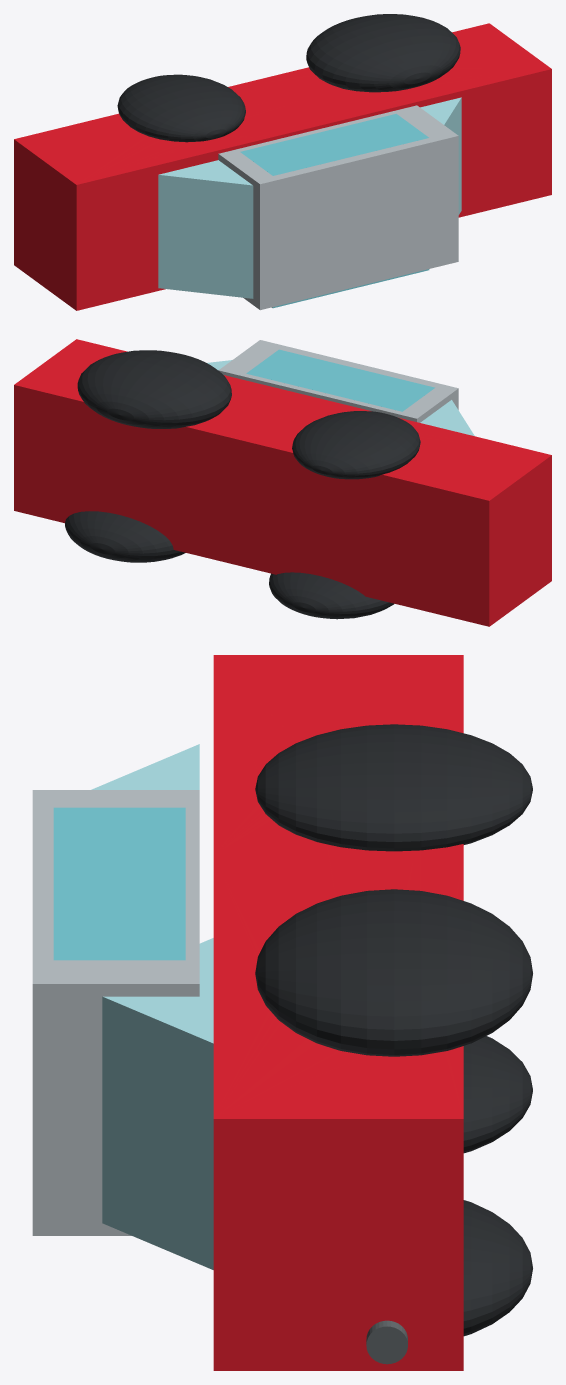
Rendered from tinker.obj.
The picture shows the model from 3 angles, top to bottom: view 1: azimuth 30°, elevation 25°; view 2: azimuth 150°, elevation 25°; view 3: azimuth 270°, elevation 25°; orthographic projection. The views are drawn at different scales.
Visible parts, largest first — view 1: group_0_15277357, group_0_12568524, group_0_2829873, group_0_11593967, group_0_7720667; view 2: group_0_15277357, group_0_2829873, group_0_7720667, group_0_12568524, group_0_11593967; view 3: group_0_15277357, group_0_2829873, group_0_12568524, group_0_11593967, group_0_7720667, group_0_6383466.
Part boxes in pixels (box(x1,y1,x2,y2)): group_0_15277357: box(14, 23, 551, 310); group_0_12568524: box(218, 105, 458, 310); group_0_2829873: box(117, 14, 460, 142); group_0_11593967: box(158, 97, 461, 298); group_0_7720667: box(240, 113, 429, 308); group_0_15277357: box(14, 339, 551, 626); group_0_2829873: box(65, 350, 420, 619); group_0_7720667: box(246, 349, 434, 411); group_0_12568524: box(218, 340, 458, 422); group_0_11593967: box(207, 360, 474, 436); group_0_15277357: box(213, 655, 463, 1370); group_0_2829873: box(255, 724, 532, 1336); group_0_12568524: box(32, 790, 199, 1235); group_0_11593967: box(91, 744, 213, 1269); group_0_7720667: box(53, 807, 185, 960); group_0_6383466: box(366, 1320, 407, 1364).
Size of the model in its own units: 80 by 31 by 36.
